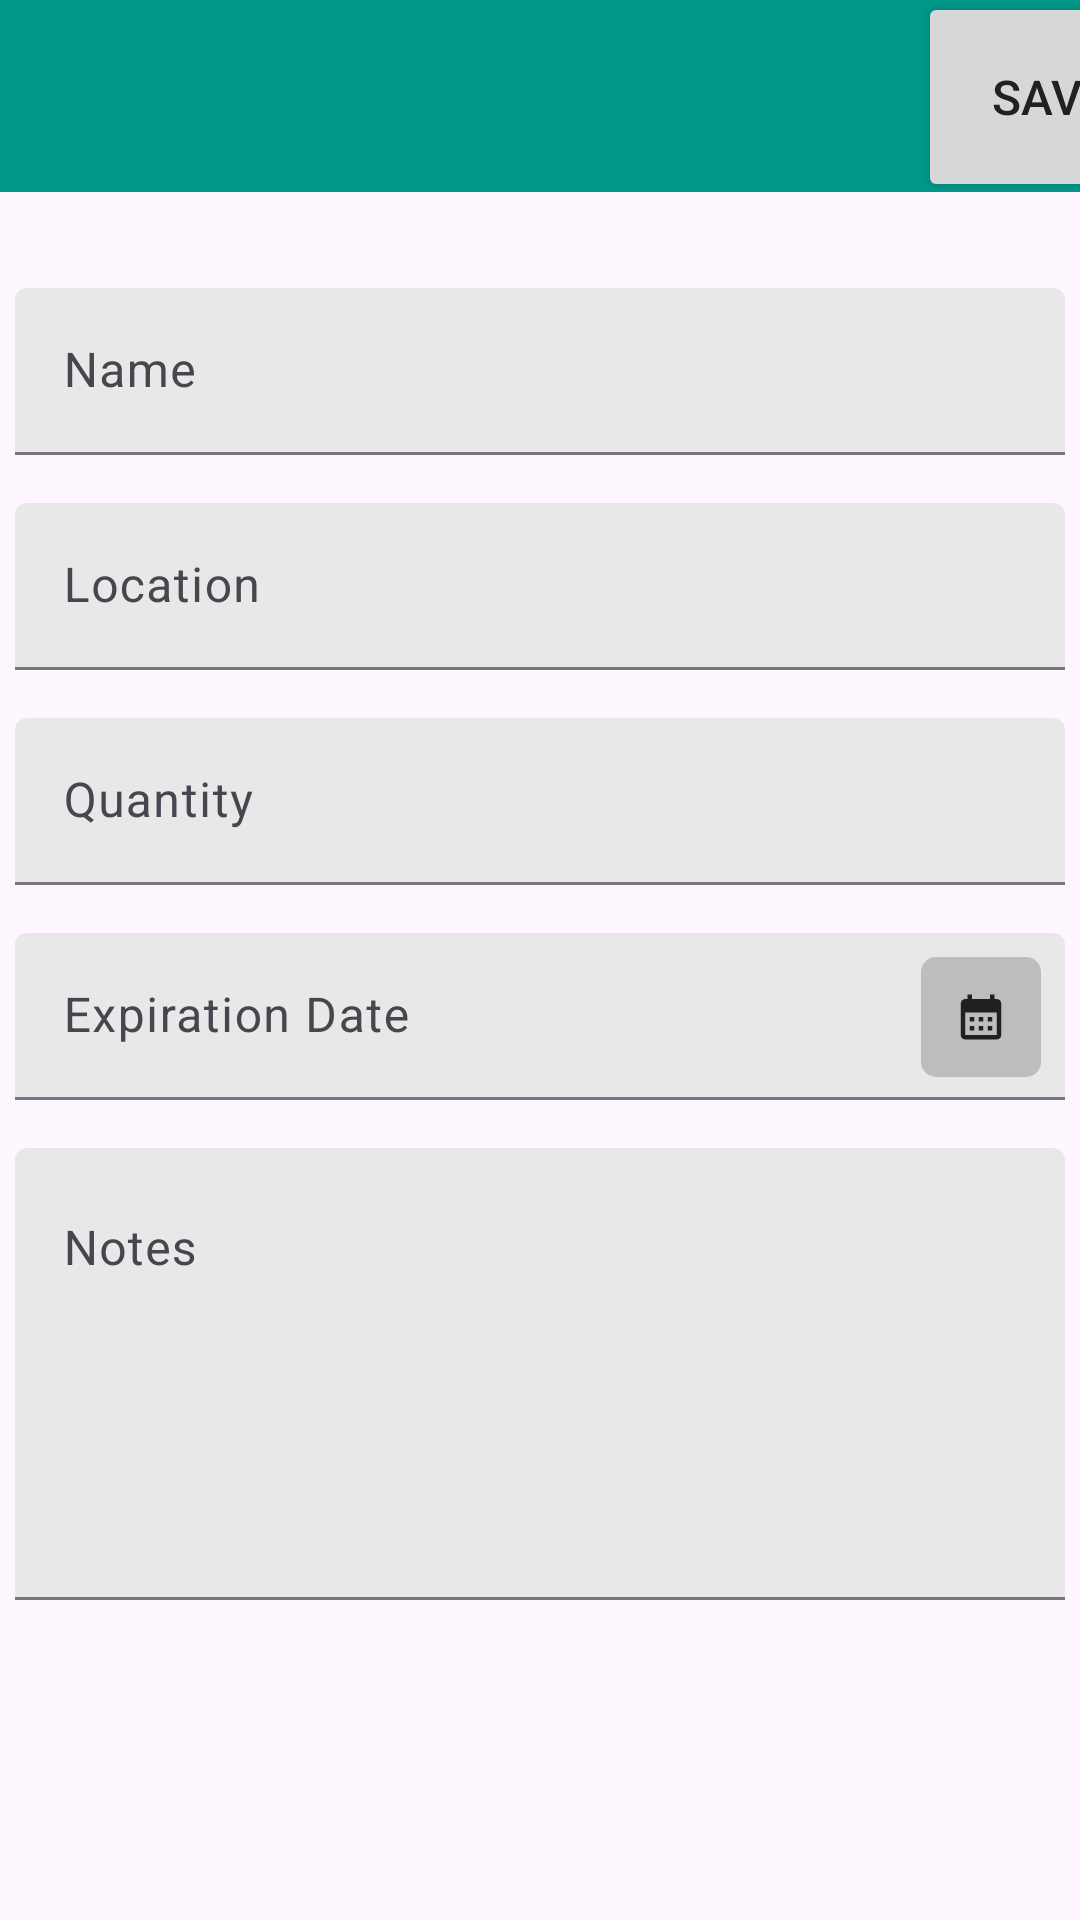

Icon bounding boxes for this 1080w x 1920h phone screenshot, format (x1, y1, x2, y2):
calendar: (921, 957, 1041, 1077)
